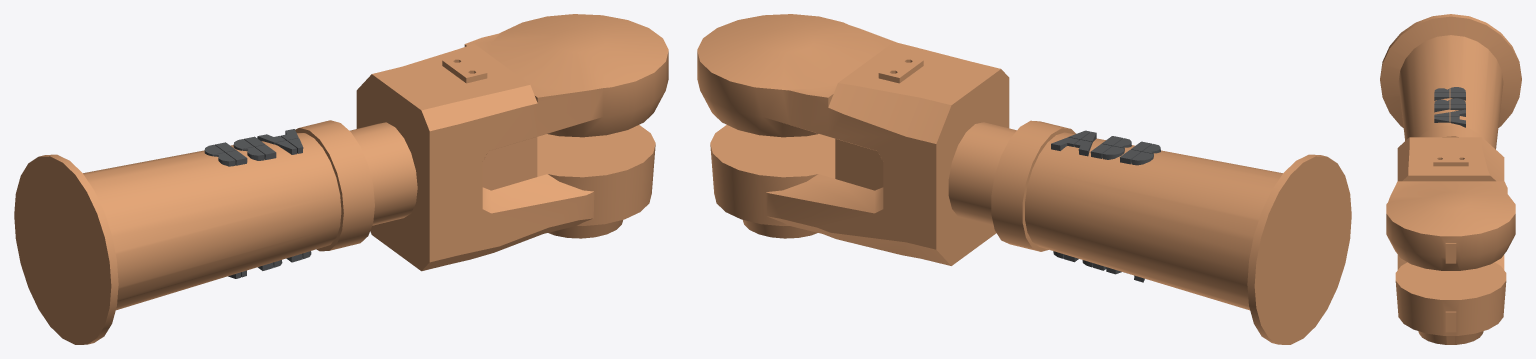
3 views of the same model, side by side, from view 1: azimuth 30°, elevation 25°; view 2: azimuth 150°, elevation 25°; view 3: azimuth 270°, elevation 25° (orthographic). The views are drawn at different scales.
Visible parts, largest first — view 1: IRB2400_16_m2000_rev4_01-9; view 2: IRB2400_16_m2000_rev4_01-9; view 3: IRB2400_16_m2000_rev4_01-9.
Boxes of the visible parts, x1,y1,x2,y2 form: IRB2400_16_m2000_rev4_01-9: (14,14,668,344); IRB2400_16_m2000_rev4_01-9: (697,14,1351,344); IRB2400_16_m2000_rev4_01-9: (1380,14,1521,344).
Size of the model in its own units: 0.573 by 0.1685 by 0.162.
